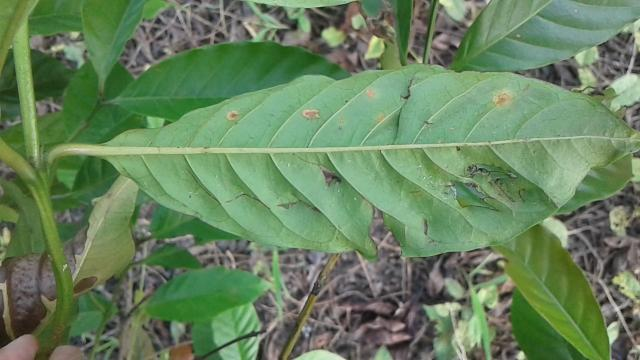rust_level_1: (98, 64, 640, 256)
